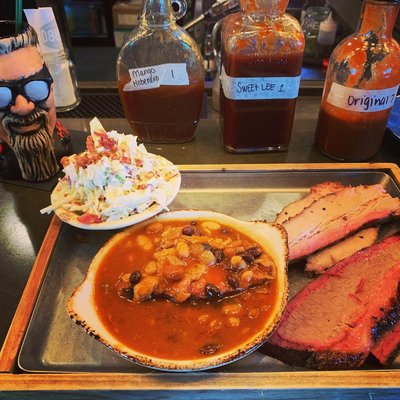sushi: (66, 214, 290, 371)
